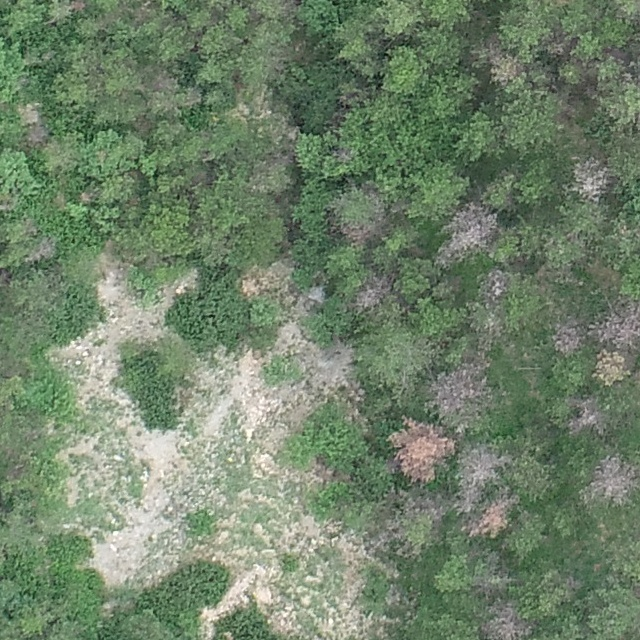unhealthy: (383, 484, 453, 557), (384, 413, 457, 481), (435, 201, 499, 265), (426, 351, 491, 411), (330, 182, 389, 245), (458, 443, 513, 502), (587, 450, 640, 506), (149, 65, 204, 114), (589, 298, 640, 349), (481, 597, 533, 640), (238, 260, 297, 296), (472, 493, 518, 538), (312, 339, 354, 388), (467, 301, 506, 351), (570, 154, 609, 203), (569, 394, 612, 437), (472, 555, 514, 596), (353, 274, 395, 310), (550, 321, 590, 357), (19, 103, 51, 147), (594, 349, 627, 387), (484, 268, 514, 302), (491, 54, 523, 82), (28, 236, 58, 262), (306, 285, 328, 308)
